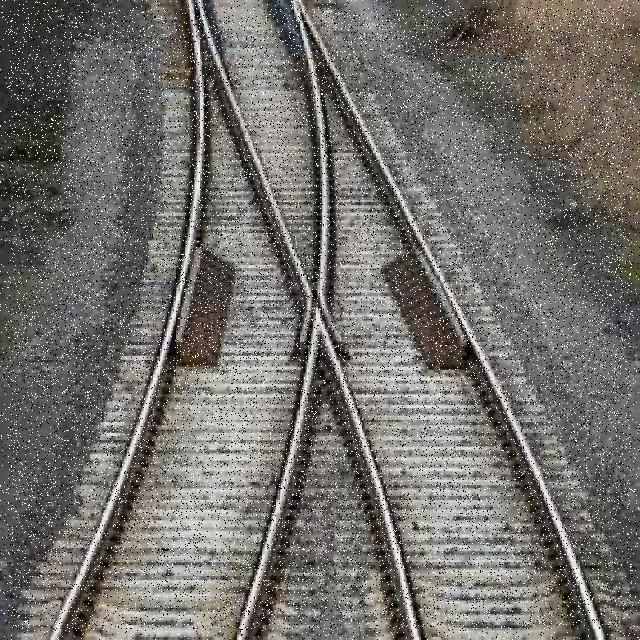rail: (9, 10, 633, 630)
